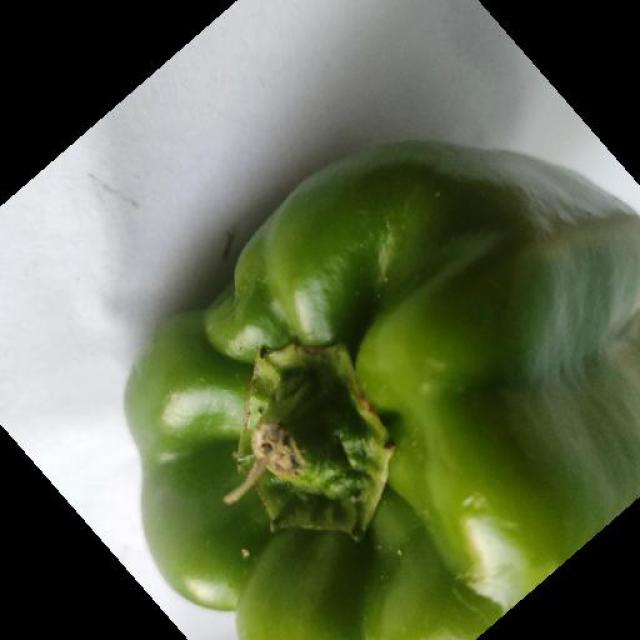Fresh_Capsicum: (121, 172, 640, 640)
